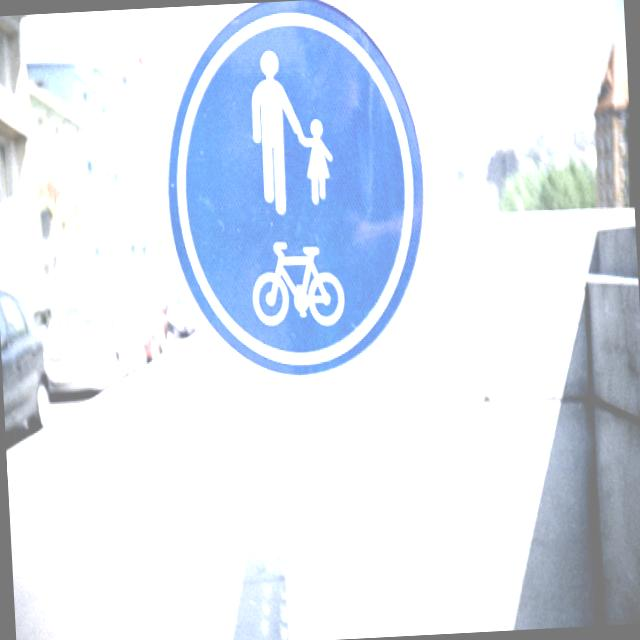Vehicle: (38, 284, 144, 393), (0, 278, 55, 474), (104, 273, 174, 368), (161, 290, 199, 348)
